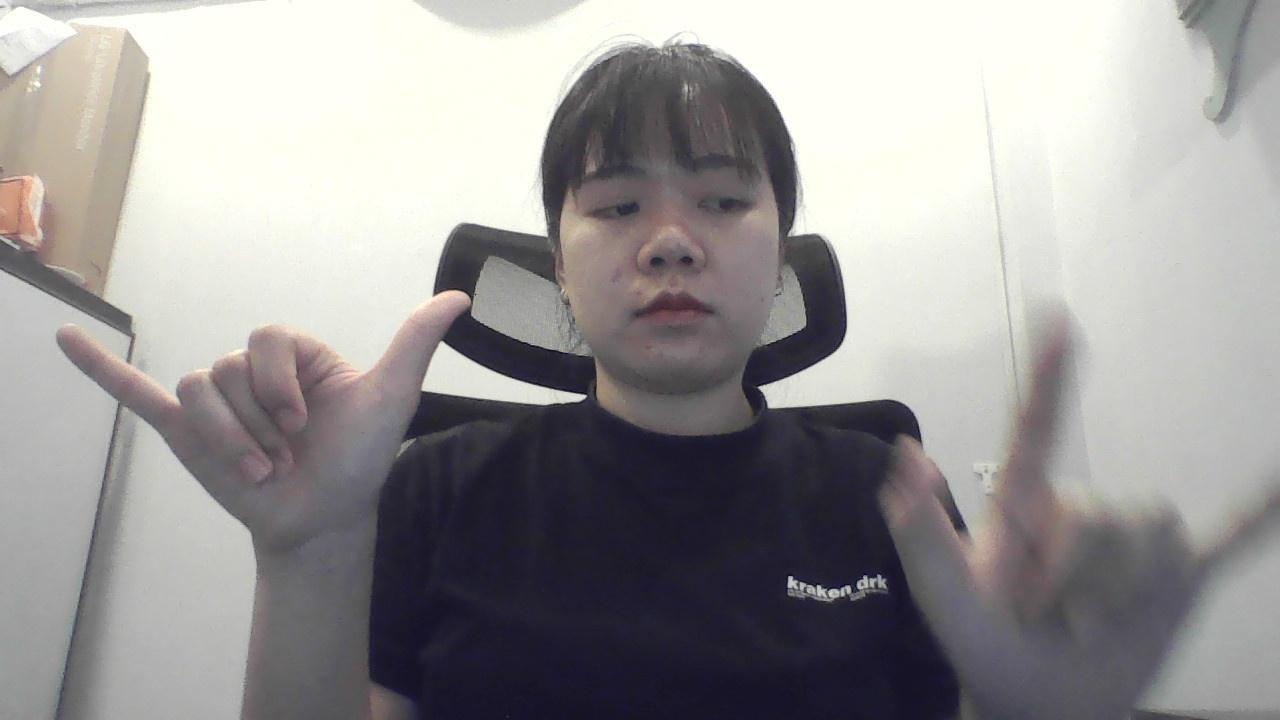Y: (51, 274, 498, 564)
